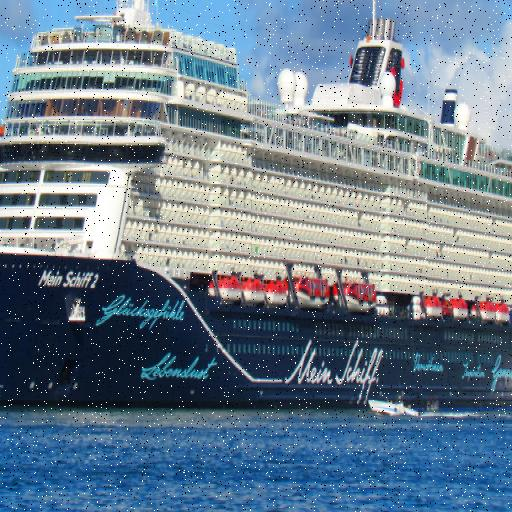cruises: (1, 1, 512, 424)
